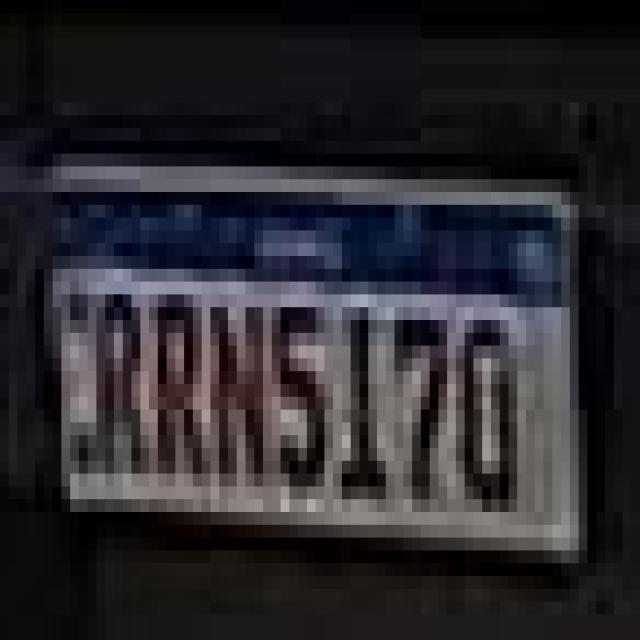0: (451, 303, 525, 515)
5: (268, 299, 335, 496)
7: (390, 306, 454, 512)
I: (332, 299, 391, 509)
N: (206, 298, 269, 492)
R: (144, 290, 205, 497), (95, 289, 150, 484)
